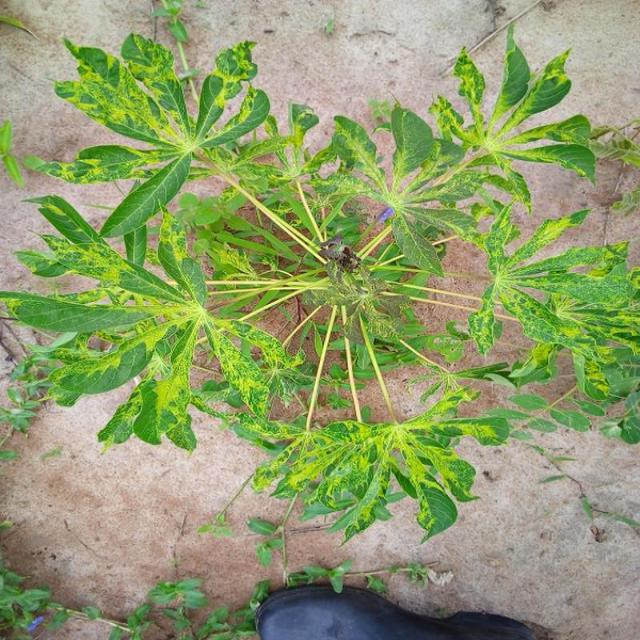cassava leaf: (2, 20, 640, 547)
